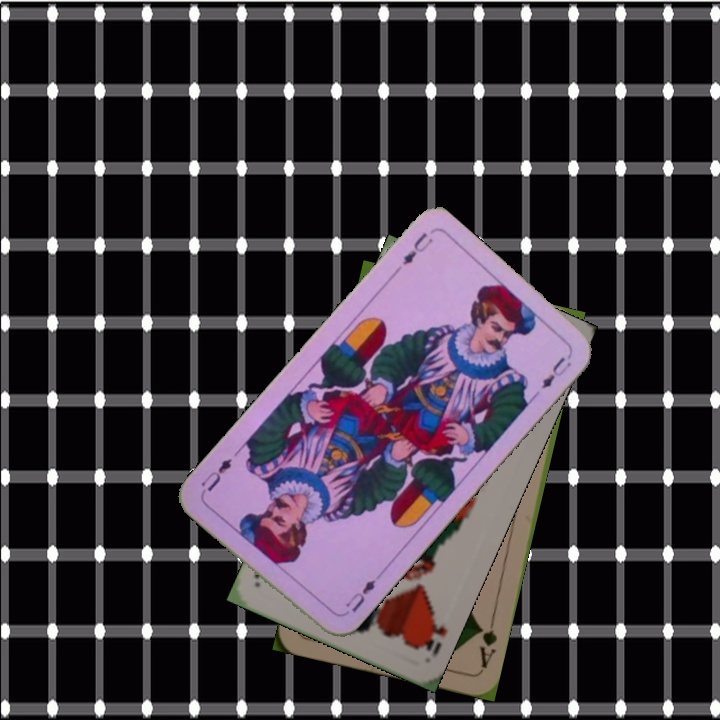EU: (342, 570, 383, 615), (398, 229, 436, 268)
GA: (474, 613, 500, 671)
HO: (414, 614, 450, 660)
